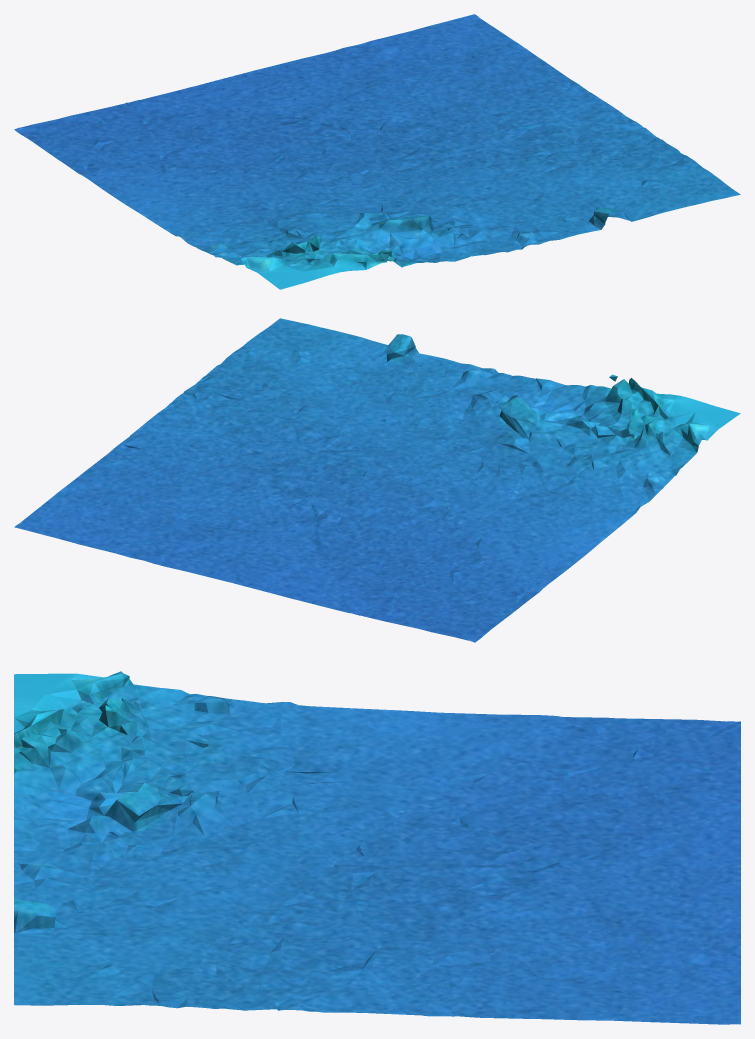
3 views of the same model, one above another, from view 1: azimuth 30°, elevation 25°; view 2: azimuth 150°, elevation 25°; view 3: azimuth 270°, elevation 25° (orthographic). The views are drawn at different scales.
Size of the model in its own units: 13.06 by 1.29 by 13.06.
Materials: 3 (3 with a texture image).
